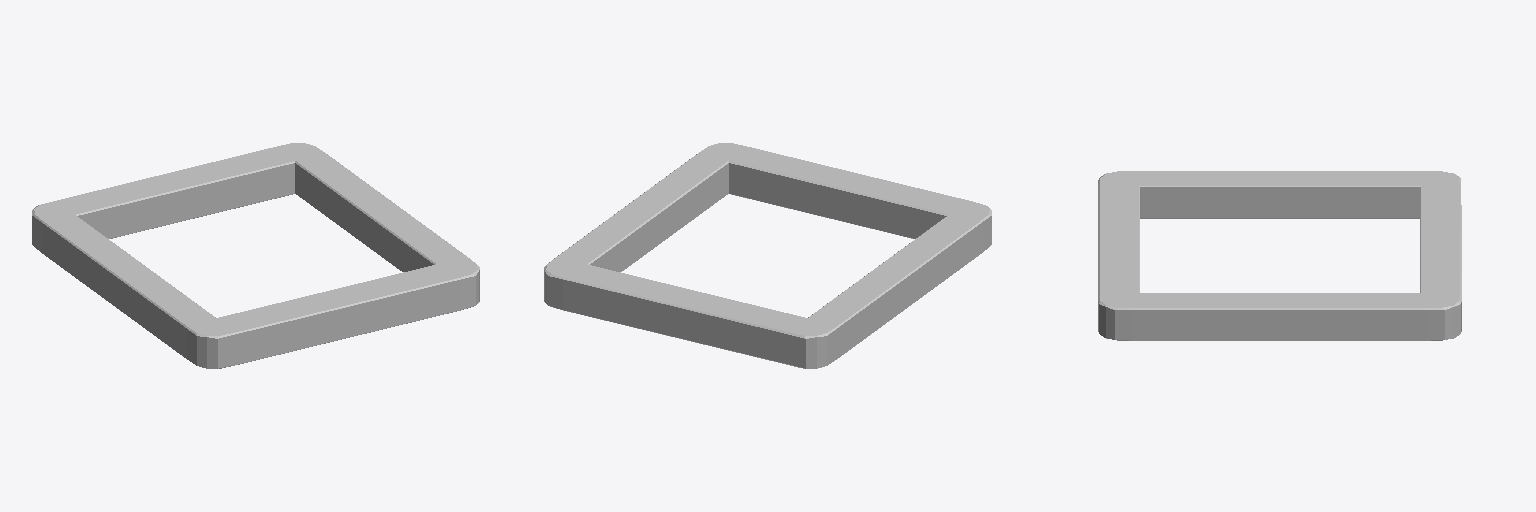
The model's file is bumpers.obj.
The picture shows the model from 3 angles: view 1: azimuth 30°, elevation 25°; view 2: azimuth 150°, elevation 25°; view 3: azimuth 270°, elevation 25°; orthographic projection.
Visible parts, largest first — view 1: Cube.001; view 2: Cube.001; view 3: Cube.001.
Boxes of the visible parts, box(x1,y1,x2,y2) form: Cube.001: box(32, 143, 479, 368); Cube.001: box(544, 143, 991, 368); Cube.001: box(1098, 171, 1461, 340).
Size of the model in its own units: 1.82 by 0.202 by 2.02.